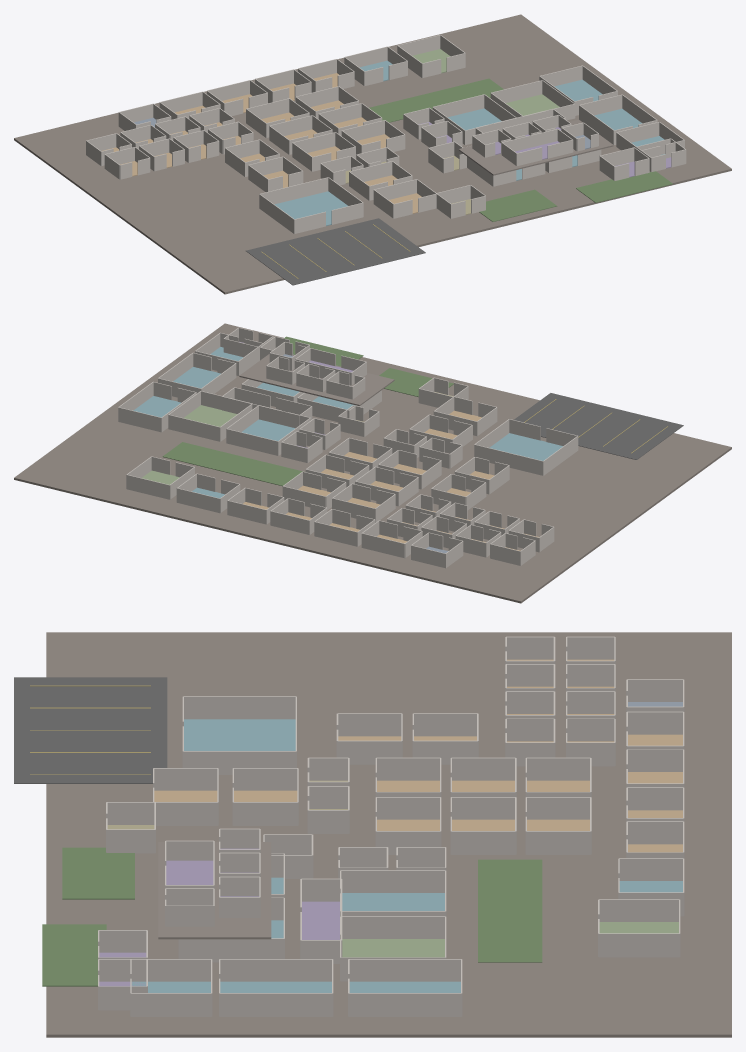
File: planta-anhanguera-3d.glb
3 renders of one model, top to bottom at view 1: azimuth 30°, elevation 25°; view 2: azimuth 150°, elevation 25°; view 3: azimuth 270°, elevation 25°, orthographic. The views are drawn at different scales.
Visible parts, largest first — view 1: Base_Terreno, Estacionamento, Jardim_1, Jardim_3, Jardim_2, Mezanino_Laje, Laborat_rio_de_Morfologia_Piso, Laborat_rio_de_Morfologia_Parede_Fundo, Cl_nica_de_Psicologia_Piso, Biblioteca_Piso, Cl_nica_de_Psicologia_Parede_Fundo, Biblioteca_Parede_Fundo (+24 smaller); view 2: Base_Terreno, Estacionamento, Jardim_1, Mezanino_Laje, Laborat_rio_de_Morfologia_Piso, Laborat_rio_de_Morfologia_Parede_Fundo, Recep_o_e_orienta_o_Parede_Fundo, Jardim_2, Biblioteca_Parede_Fundo, Cl_nica_de_Psicologia_Parede_Fundo, Laborat_rio_de_Inform_tica_I_Parede_Fundo, Sala_9_Parede_Fundo (+19 smaller); view 3: Base_Terreno, Estacionamento, Jardim_1, Mezanino_Laje, Jardim_2, Laborat_rio_de_Morfologia_Piso, Jardim_3, Laborat_rio_de_Inform_tica_I_Parede_Direita, Laborat_rio_de_Inform_tica_II_Parede_Direita, Laborat_rio_de_Morfologia_Parede_Esquerda, Laborat_rio_de_Inform_tica_I_Parede_Esquerda, Laborat_rio_de_Inform_tica_II_Parede_Esquerda (+81 smaller).
Part boxes in pixels (<box>): Base_Terreno: <box>14,14,731,294</box>; Estacionamento: <box>246,218,425,285</box>; Jardim_1: <box>369,78,503,122</box>; Jardim_3: <box>576,171,672,202</box>; Jardim_2: <box>479,189,557,221</box>; Mezanino_Laje: <box>458,120,613,175</box>; Laborat_rio_de_Morfologia_Piso: <box>274,191,347,225</box>; Laborat_rio_de_Morfologia_Parede_Fundo: <box>260,177,328,204</box>; Cl_nica_de_Psicologia_Piso: <box>448,108,501,130</box>; Biblioteca_Piso: <box>506,94,559,115</box>; Cl_nica_de_Psicologia_Parede_Fundo: <box>433,94,484,117</box>; Biblioteca_Parede_Fundo: <box>491,80,542,102</box>; Base_Terreno: <box>14,323,731,603</box>; Estacionamento: <box>514,393,683,459</box>; Jardim_1: <box>162,442,302,486</box>; Mezanino_Laje: <box>239,354,394,406</box>; Laborat_rio_de_Morfologia_Piso: <box>489,433,562,460</box>; Laborat_rio_de_Morfologia_Parede_Fundo: <box>474,444,543,475</box>; Recep_o_e_orienta_o_Parede_Fundo: <box>222,396,299,428</box>; Jardim_2: <box>379,368,453,396</box>; Biblioteca_Parede_Fundo: <box>168,414,220,441</box>; Cl_nica_de_Psicologia_Parede_Fundo: <box>226,429,278,455</box>; Laborat_rio_de_Inform_tica_I_Parede_Fundo: <box>118,407,161,432</box>; Sala_9_Parede_Fundo: <box>361,533,404,558</box>; Base_Terreno: <box>46,632,731,1037</box>; Estacionamento: <box>14,677,167,783</box>; Jardim_1: <box>478,859,542,962</box>; Mezanino_Laje: <box>158,842,271,939</box>; Jardim_2: <box>62,847,134,899</box>; Laborat_rio_de_Morfologia_Piso: <box>184,719,295,750</box>; Jardim_3: <box>42,924,106,986</box>; Laborat_rio_de_Inform_tica_I_Parede_Direita: <box>348,993,461,1016</box>; Laborat_rio_de_Inform_tica_II_Parede_Direita: <box>219,993,332,1016</box>; Laborat_rio_de_Morfologia_Parede_Esquerda: <box>183,696,295,719</box>; Laborat_rio_de_Inform_tica_I_Parede_Esquerda: <box>349,959,461,981</box>; Laborat_rio_de_Inform_tica_II_Parede_Esquerda: <box>220,959,332,981</box>.
Size of the model in its own units: 118 by 7.56 by 89.
